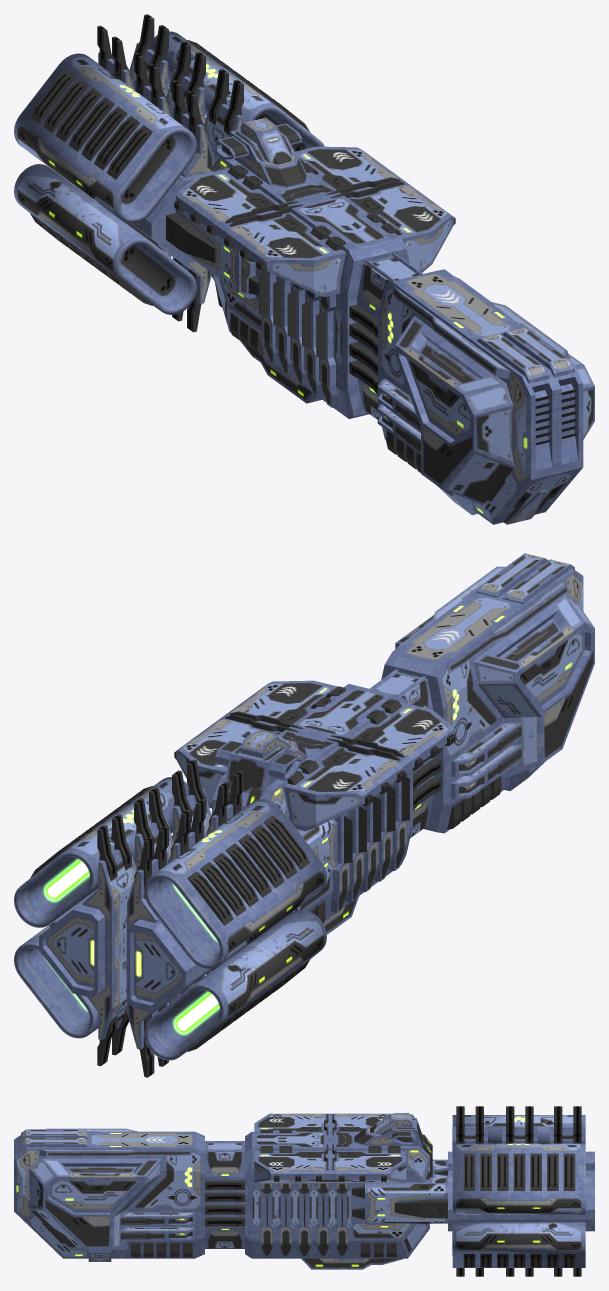
File: longhauler-farrider.glb
3 renders of one model, top to bottom at view 1: azimuth 30°, elevation 25°; view 2: azimuth 150°, elevation 25°; view 3: azimuth 270°, elevation 25°, orthographic. The views are drawn at different scales.
Parts seen in each view (by area): view 1: hull; view 2: hull; view 3: hull.
Boxes of the visible parts, bbox=[...] form: hull: bbox=[14, 14, 594, 524]; hull: bbox=[14, 553, 594, 1077]; hull: bbox=[14, 1106, 594, 1276].
Bounding box in the file's own units: 0.274 × 0.2924 × 1.
1 material, 1 textured.
